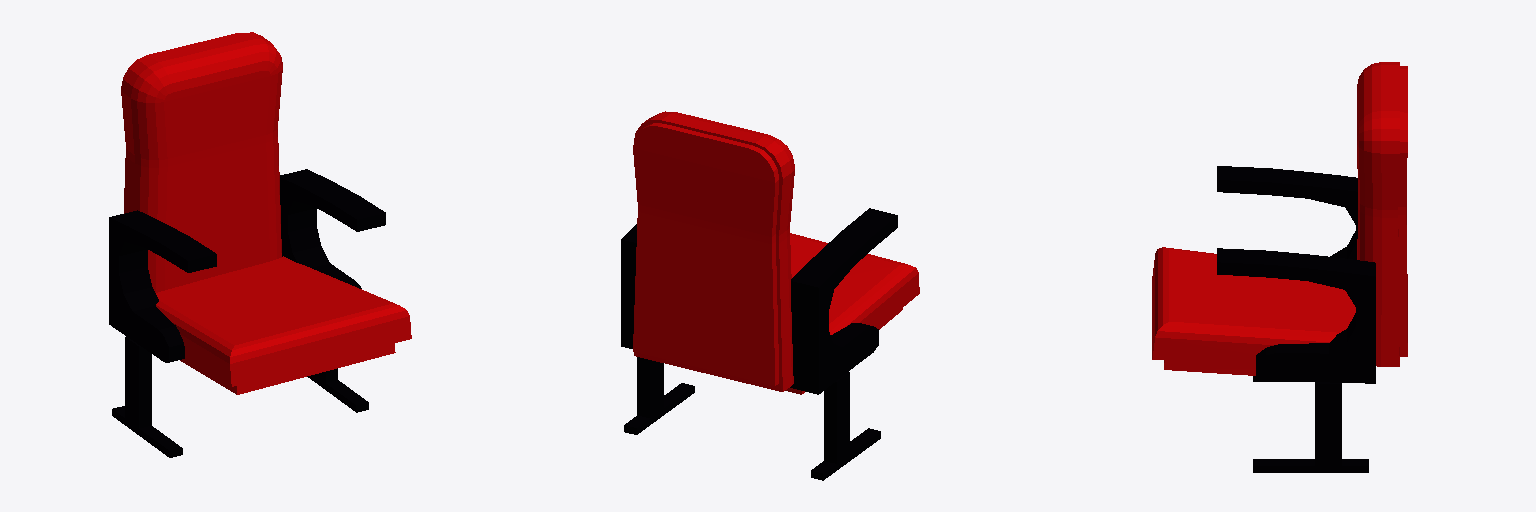
The model's file is chair.obj.
3 renders of one model, left to right at view 1: azimuth 30°, elevation 25°; view 2: azimuth 150°, elevation 25°; view 3: azimuth 270°, elevation 25°, orthographic.
Parts seen in each view (by area): view 1: Cube.001, Cube, Plane; view 2: Cube.001, Plane, Cube; view 3: Plane, Cube, Cube.001.
Part boxes in pixels (x1,y1,x2,y2): Cube.001: (121,32,282,292); Cube: (156,256,411,394); Plane: (109,169,385,457); Cube.001: (633,111,794,391); Plane: (621,208,897,480); Cube: (785,233,919,394); Plane: (1217,166,1375,472); Cube: (1152,247,1355,375); Cube.001: (1357,62,1407,366).
Size of the model in its own units: 2.14 by 3.46 by 2.38.